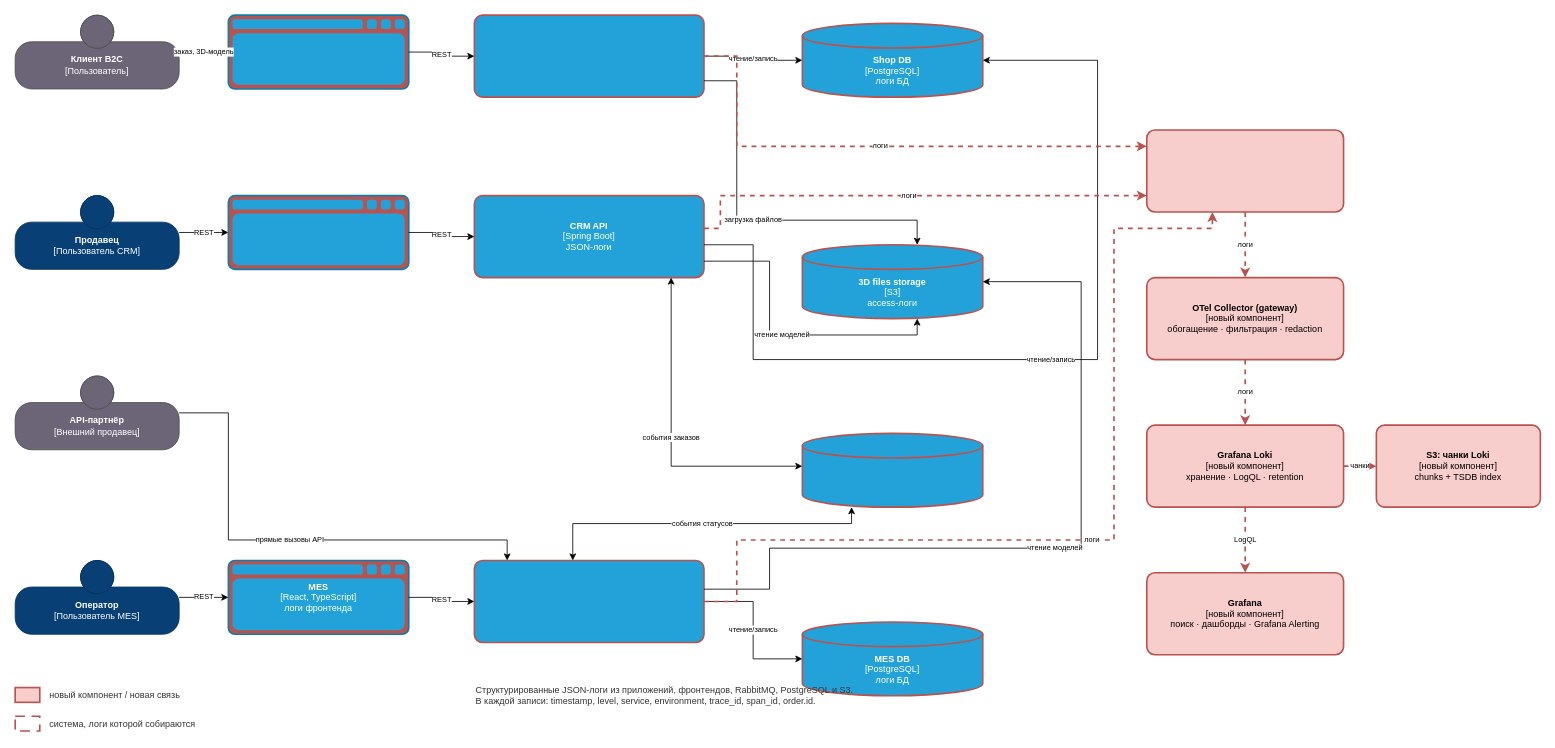
The diagram is 1555 pixels wide and 748 high, and some of its shapes have lost their labels. The centre of each missing label's shape, as x and y in pixels:
CRM [Vue, TypeScript] логи фронтенда: (318,232)
Fluent Bit (агенты) [новый компонент] сбор логов на каждом EC2: (1245,170)
MES API [C#] JSON-логи: (588,601)
RabbitMQ [Очередь сообщений] логи брокера: (892,470)
Shop API [Spring Boot] JSON-логи: (588,56)
Онлайн-магазин [Vue, TypeScript, Three.js] логи фронтенда: (318,51)
